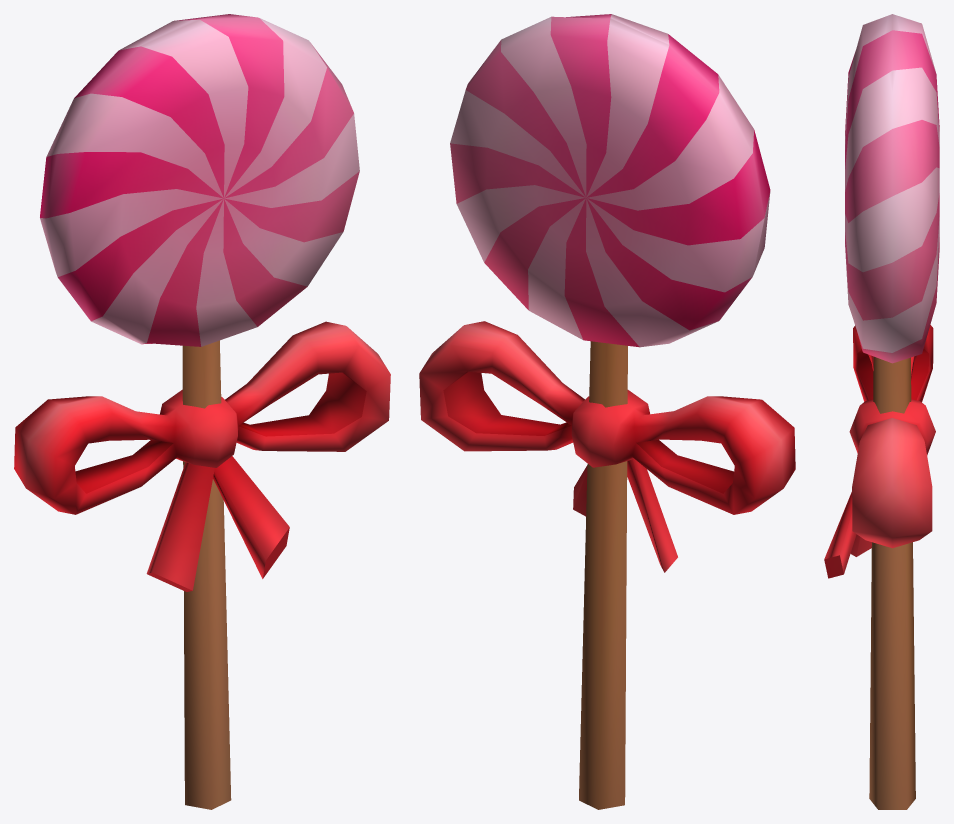
File: christmasLollipop.fbx
3 views of the same model, side by side, from view 1: azimuth 30°, elevation 25°; view 2: azimuth 150°, elevation 25°; view 3: azimuth 270°, elevation 25° (orthographic).
Visible parts, largest first — view 1: christmasLollipop; view 2: christmasLollipop; view 3: christmasLollipop.
Part boxes in pixels (box(x1,y1,x2,y2)): christmasLollipop: box(14, 14, 390, 809); christmasLollipop: box(419, 14, 795, 809); christmasLollipop: box(824, 14, 939, 809).
Size of the model in its own units: 6.9 by 14.66 by 2.
